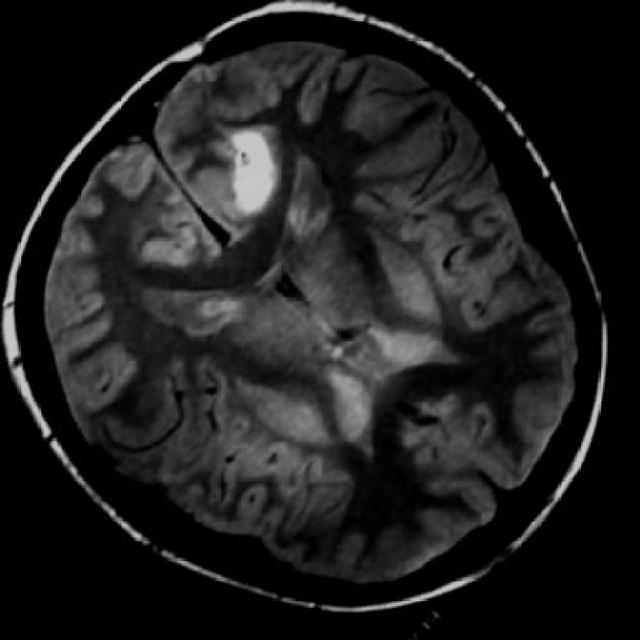Brain-Tumor: (222, 119, 280, 217)
